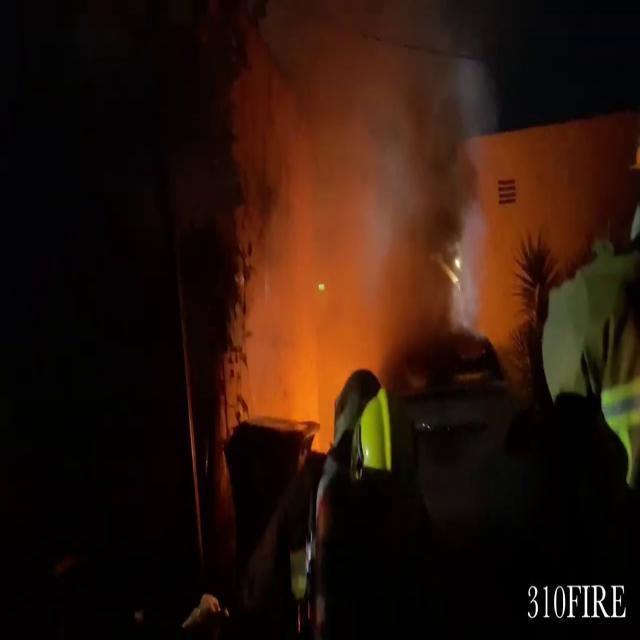Smoke: (186, 2, 508, 408)
